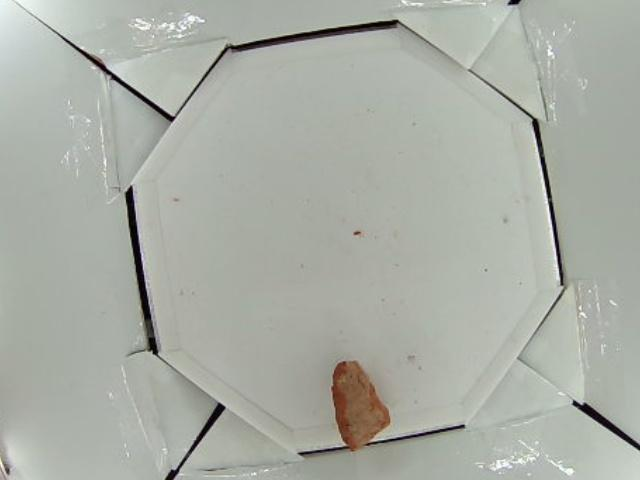Brisk: (331, 358, 388, 452)
